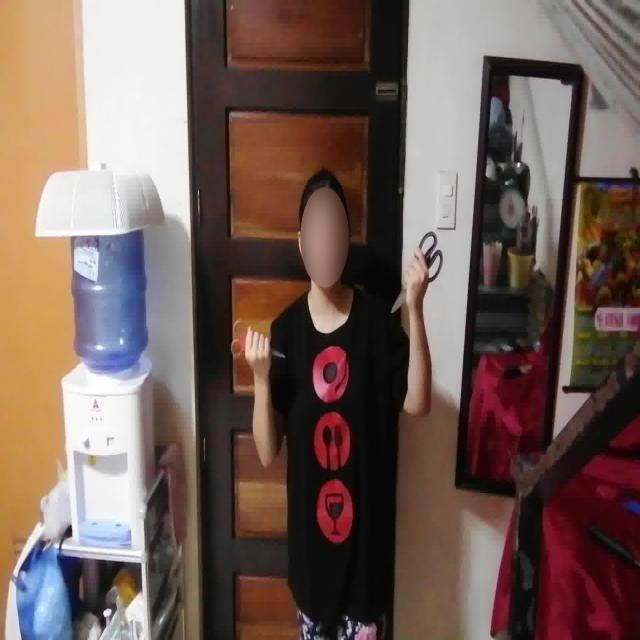scissor: (390, 230, 444, 314), (230, 317, 286, 362)
